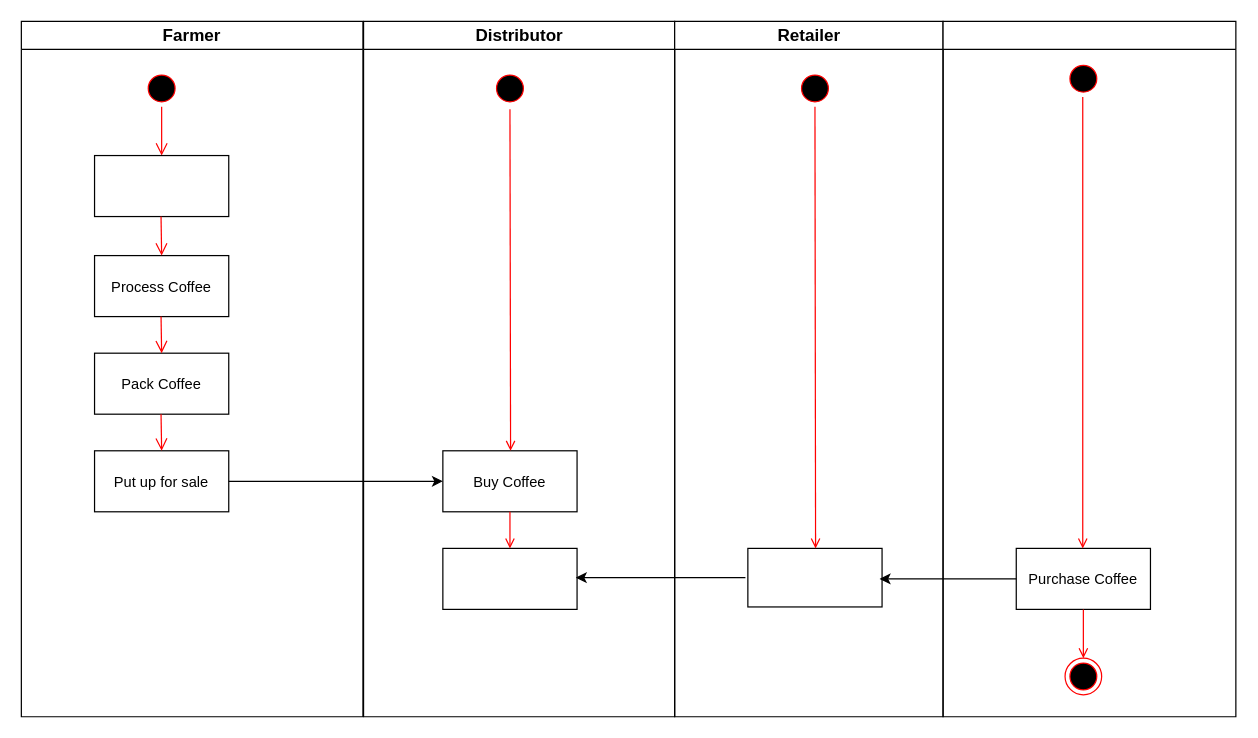
Image size: 1258x738. Some labels were removed from this diagram. The box of each missing label's shape, as (x1, y1, x2, y2) in pixels:
Consumer: (942, 20, 1236, 717)
Harvest Coffee: (93, 154, 229, 217)
Receive Coffee: (747, 547, 882, 607)
Ships Coffee: (442, 547, 577, 609)
